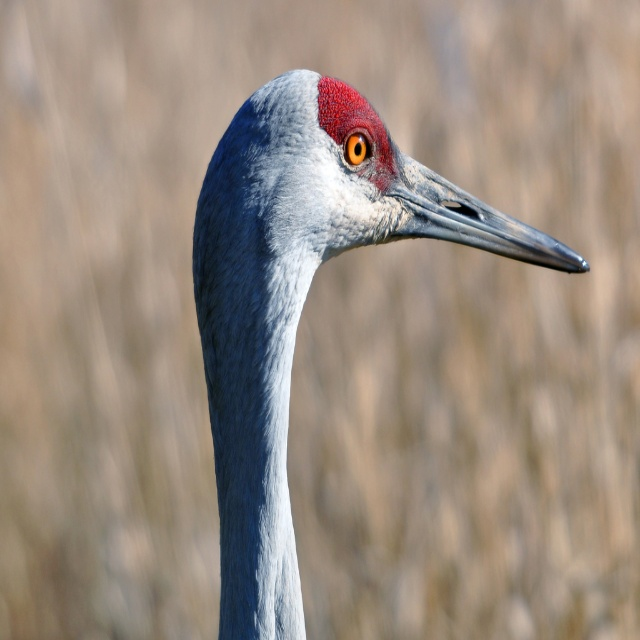Goose: (192, 68, 590, 639)
